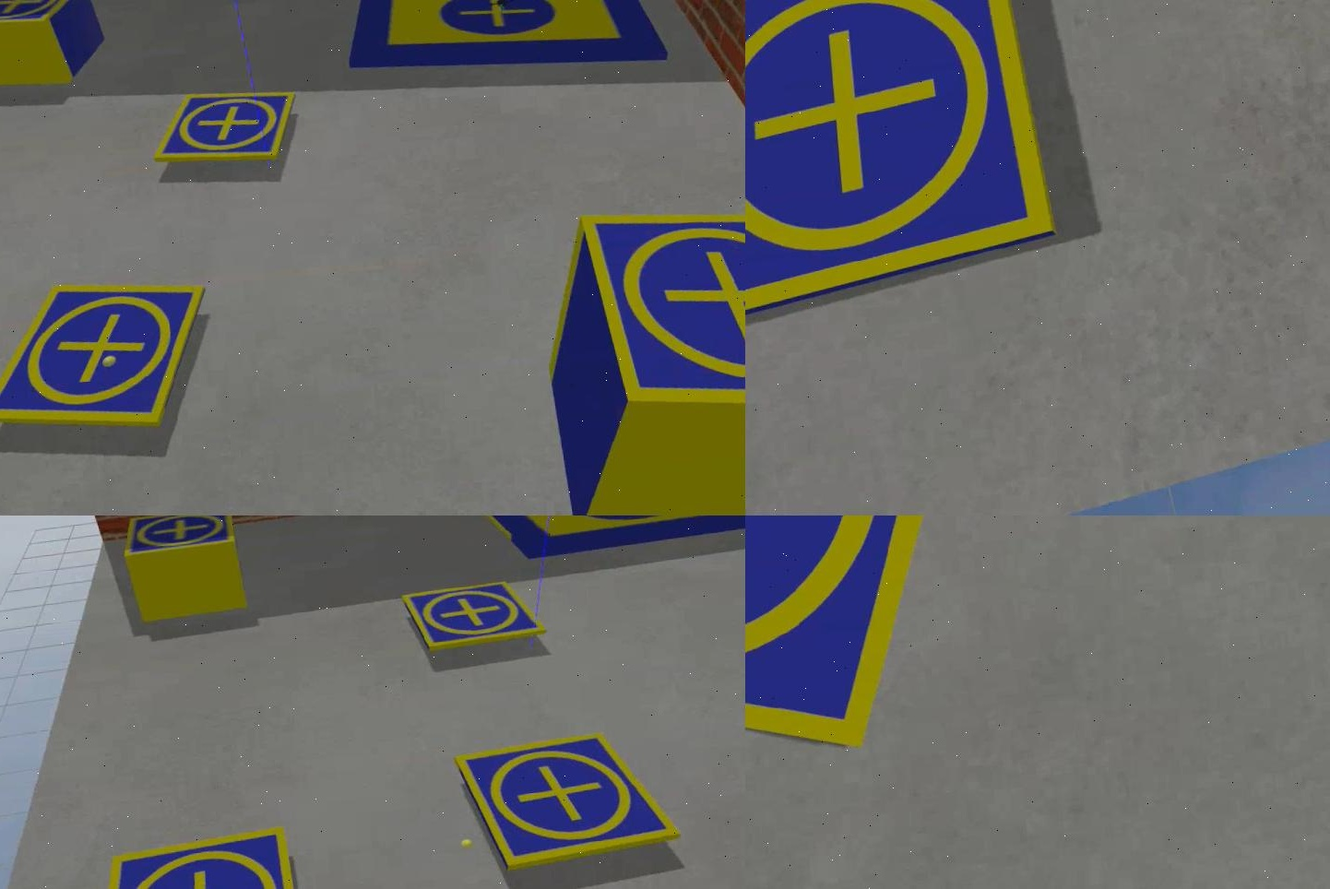large_base: (338, 1, 667, 89), (464, 516, 744, 567)
small_base: (744, 1, 1061, 338), (744, 516, 1043, 794), (573, 190, 744, 435), (0, 267, 220, 444), (452, 723, 683, 875), (74, 823, 309, 889), (148, 84, 300, 172), (398, 576, 543, 658), (121, 516, 238, 560), (0, 1, 89, 39)
